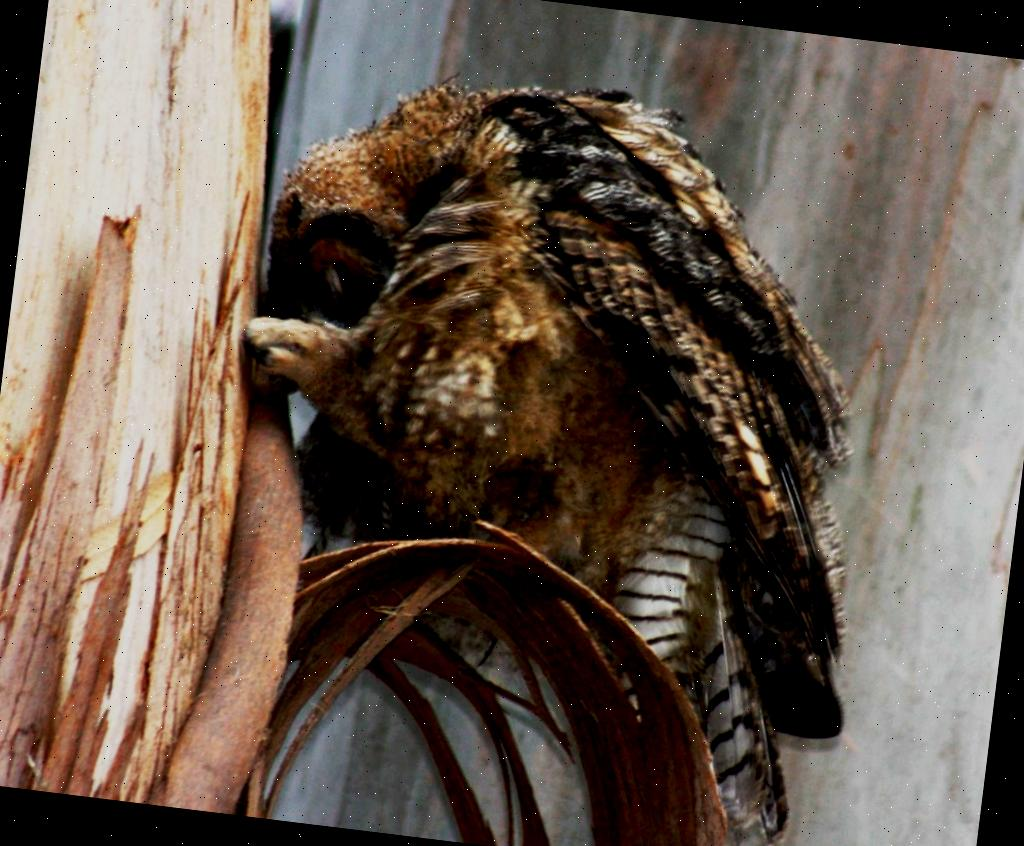Owl: (190, 46, 923, 846)
